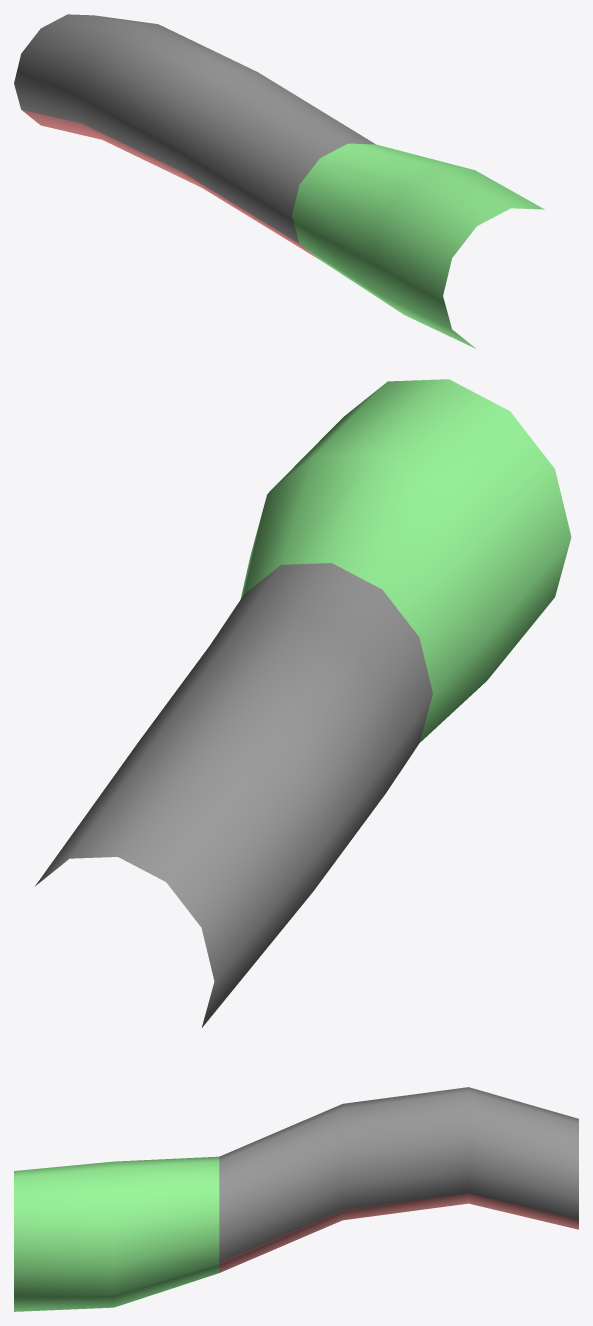
The picture shows the model from 3 angles, top to bottom: view 1: azimuth 30°, elevation 25°; view 2: azimuth 150°, elevation 25°; view 3: azimuth 270°, elevation 25°; orthographic projection. The views are drawn at different scales.
Parts seen in each view (by area): view 1: root_1_3; view 2: root_1_3; view 3: root_1_3.
Part boxes in pixels (bbox=[...]): root_1_3: bbox=[14, 14, 544, 348]; root_1_3: bbox=[35, 379, 571, 1027]; root_1_3: bbox=[14, 1087, 578, 1311].
Bounding box in the file's own units: 17.4 × 11.64 × 37.43.
